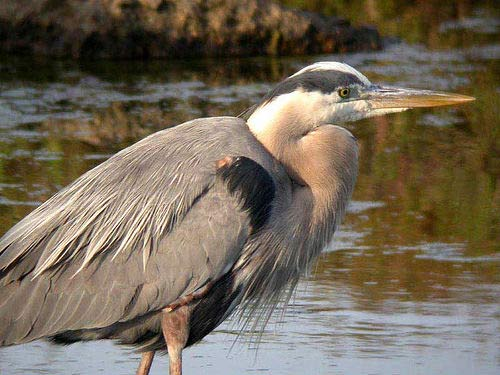heron: (1, 55, 483, 354)
